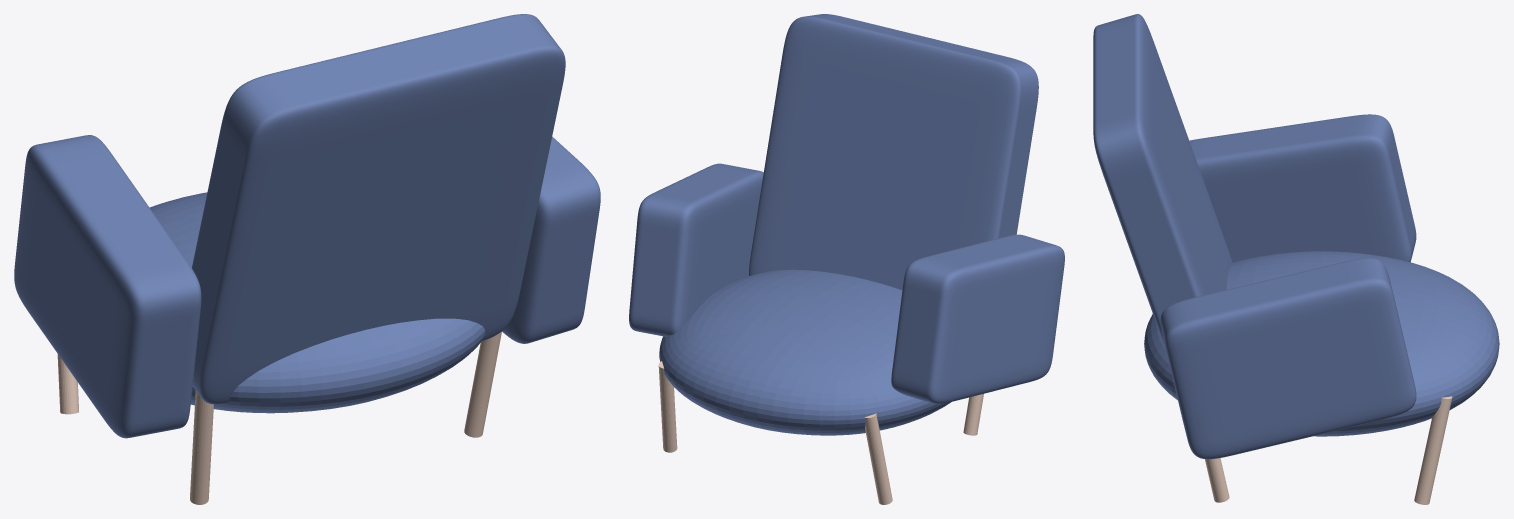
3 renders of one model, left to right at view 1: azimuth 30°, elevation 25°; view 2: azimuth 150°, elevation 25°; view 3: azimuth 270°, elevation 25°, orthographic. The views are drawn at different scales.
Visible parts, largest first — view 1: Backrest, Left_Armrest, Seat_Cushion, Right_Armrest, Back_Left_Leg, Back_Right_Leg, Front_Left_Leg; view 2: Backrest, Seat_Cushion, Left_Armrest, Right_Armrest, Front_Left_Leg, Front_Right_Leg, Back_Left_Leg; view 3: Right_Armrest, Left_Armrest, Backrest, Seat_Cushion, Front_Right_Leg, Back_Right_Leg.
Boxes of the visible parts, <box> form: Backrest: <box>192,14,565,404</box>; Left_Armrest: <box>14,135,201,438</box>; Seat_Cushion: <box>149,192,485,413</box>; Right_Armrest: <box>502,136,600,343</box>; Back_Left_Leg: <box>190,390,213,504</box>; Back_Right_Leg: <box>464,331,501,437</box>; Front_Left_Leg: <box>57,354,78,414</box>; Backrest: <box>749,14,1038,289</box>; Seat_Cushion: <box>659,269,951,435</box>; Left_Armrest: <box>891,234,1064,404</box>; Right_Armrest: <box>629,163,763,336</box>; Front_Left_Leg: <box>864,413,892,504</box>; Front_Right_Leg: <box>658,361,677,452</box>; Back_Left_Leg: <box>963,394,983,435</box>; Right_Armrest: <box>1160,258,1416,459</box>; Left_Armrest: <box>1189,114,1416,262</box>; Backrest: <box>1093,14,1232,349</box>; Seat_Cushion: <box>1144,251,1499,436</box>; Front_Right_Leg: <box>1414,396,1452,504</box>; Back_Right_Leg: <box>1205,458,1229,502</box>.
Size of the model in its own units: 1.99 by 1.87 by 1.82.
